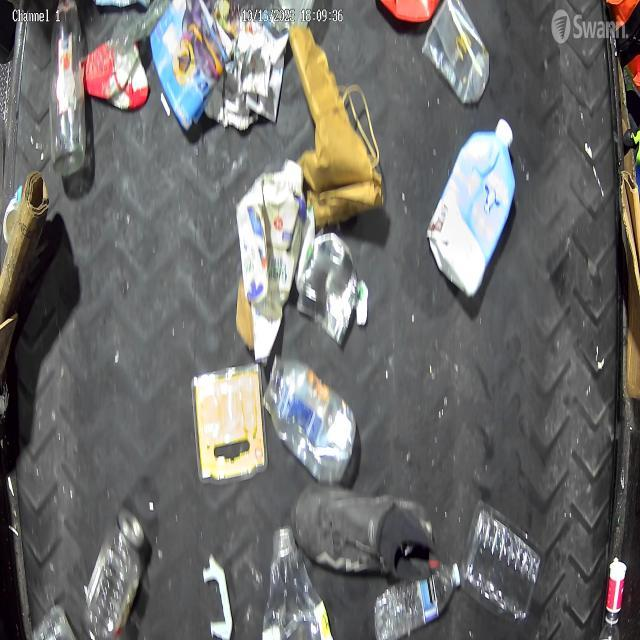non_white_jug: (422, 120, 520, 300)
plastic_bottle: (374, 557, 462, 640), (49, 0, 88, 174)
